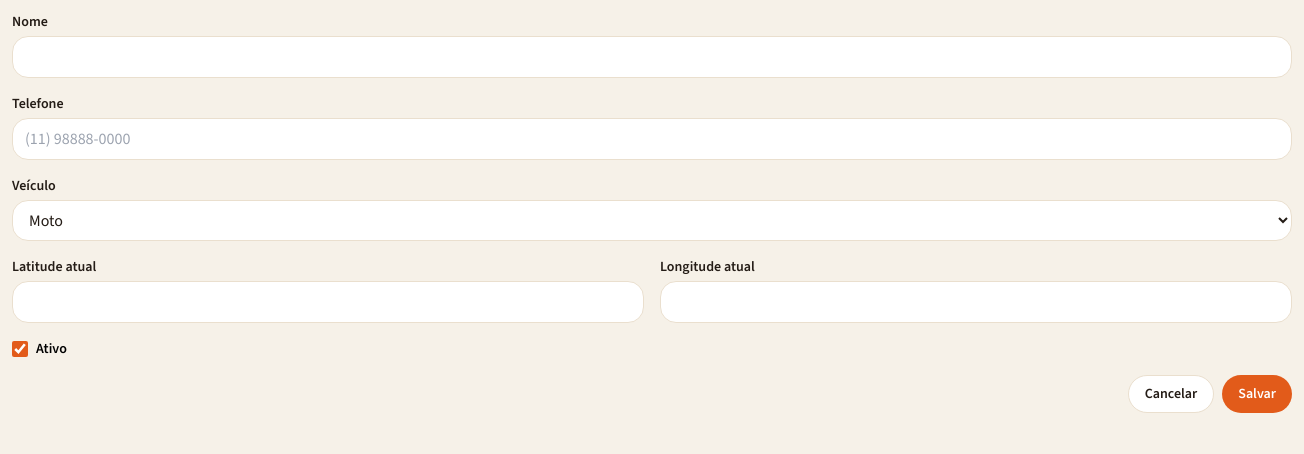
Test: máscaras de formulário › aplica a máscara de telefone no cadastro do entregador
The width and height of the screenshot is (1304, 454).
Type "11988880000" into the field labelled "Telefone". click: coordinates (652, 139)
box: 12,118 -> 1292,160
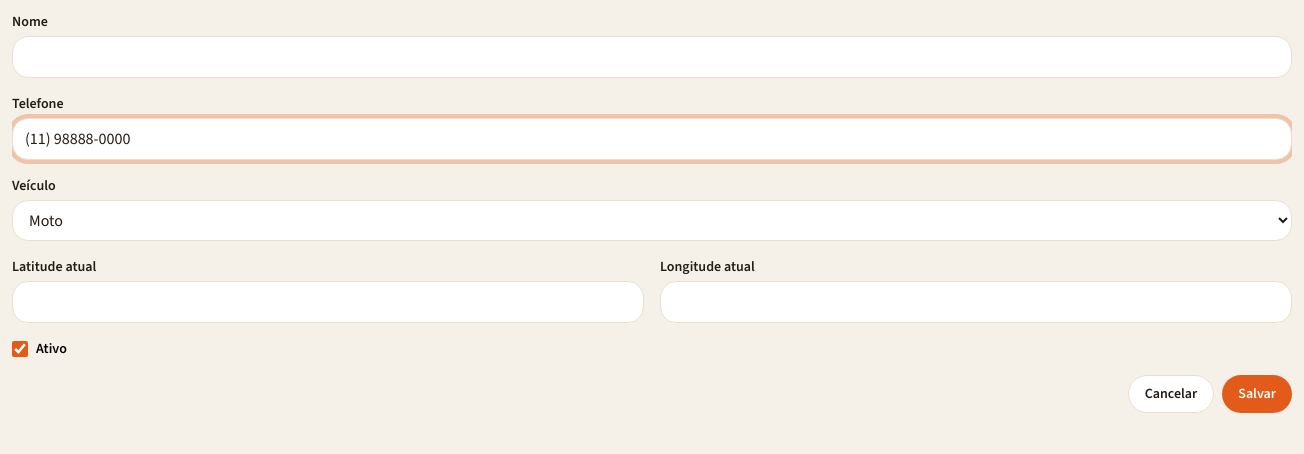
Check: the field labelled "Telefone" holds "(11) 98888-0000"
Type "119" into the field labelled "Telefone". click: coordinates (652, 139)
box: 12,118 -> 1292,160
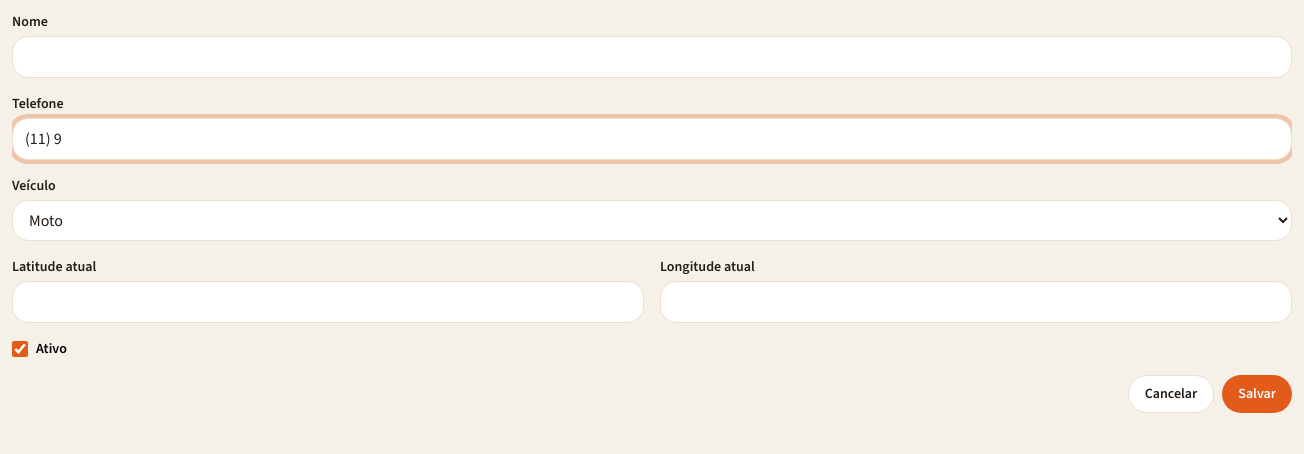
Press Tab
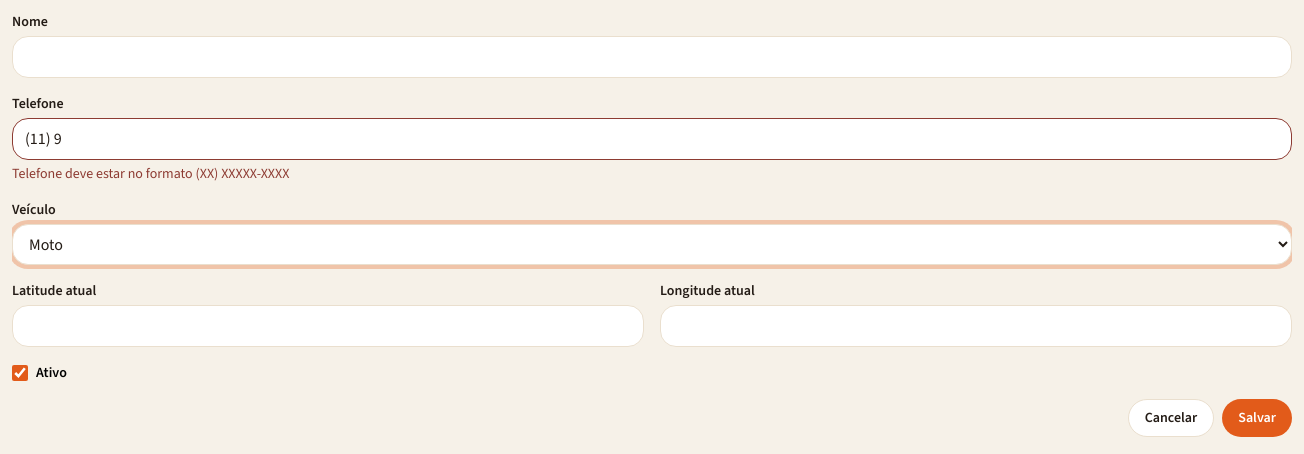
Check: the text "Telefone deve estar no formato (XX) XXXXX-XXXX" is shown, box 12,164 -> 289,183
